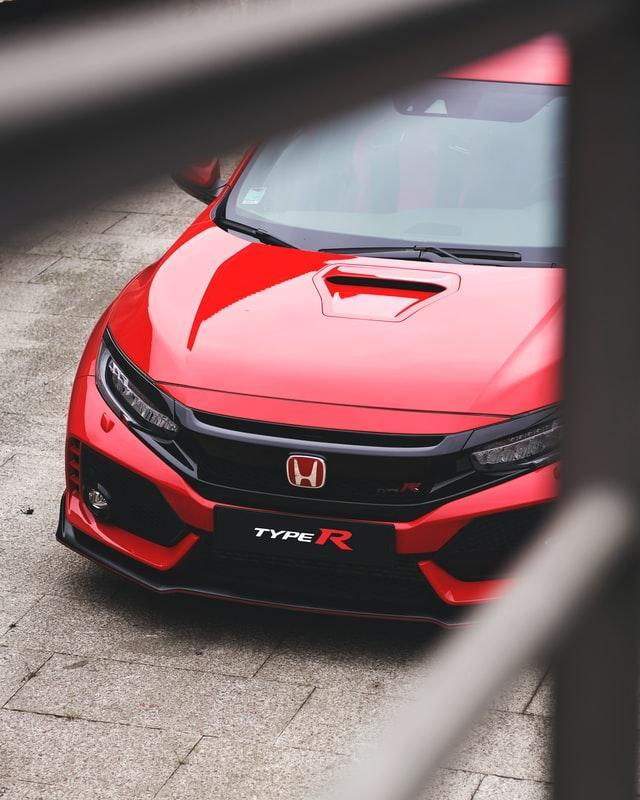bienso: (204, 501, 399, 572)
